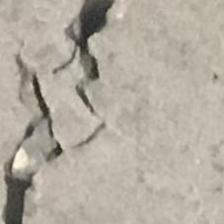Crack: (0, 0, 138, 224)
